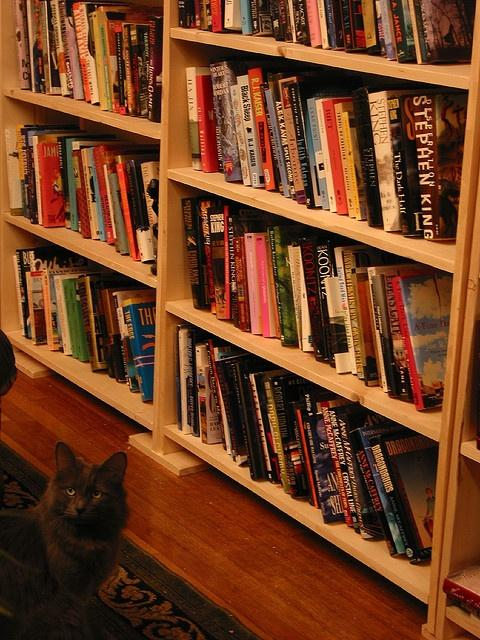Rak: (157, 0, 479, 638), (0, 0, 171, 436)
